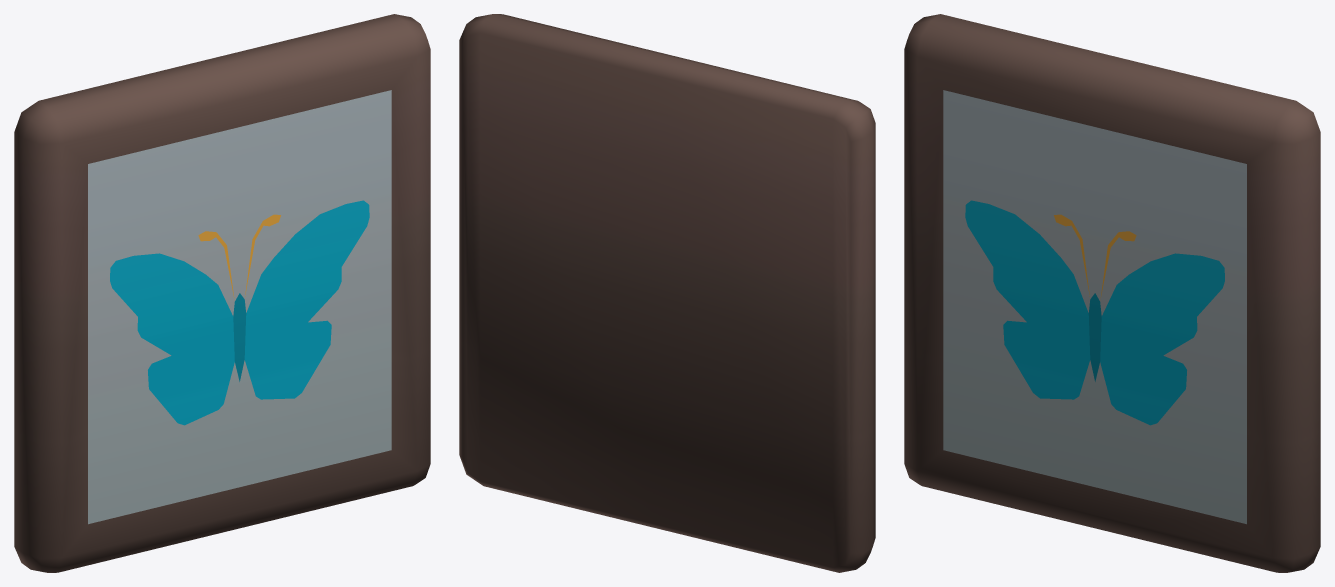
Rendered from Picture_03.glb.
3 views of the same model, side by side, from view 1: azimuth 30°, elevation 25°; view 2: azimuth 150°, elevation 25°; view 3: azimuth 330°, elevation 25° (orthographic).
Parts seen in each view (by area): view 1: Picture_03; view 2: Picture_03; view 3: Picture_03.
Boxes of the visible parts, x1,y1,x2,y2 form: Picture_03: [14, 14, 430, 572]; Picture_03: [459, 14, 875, 572]; Picture_03: [904, 14, 1320, 572].
Size of the model in its own units: 0.5 by 0.55 by 0.06.
Materials: 1 (1 with a texture image).
